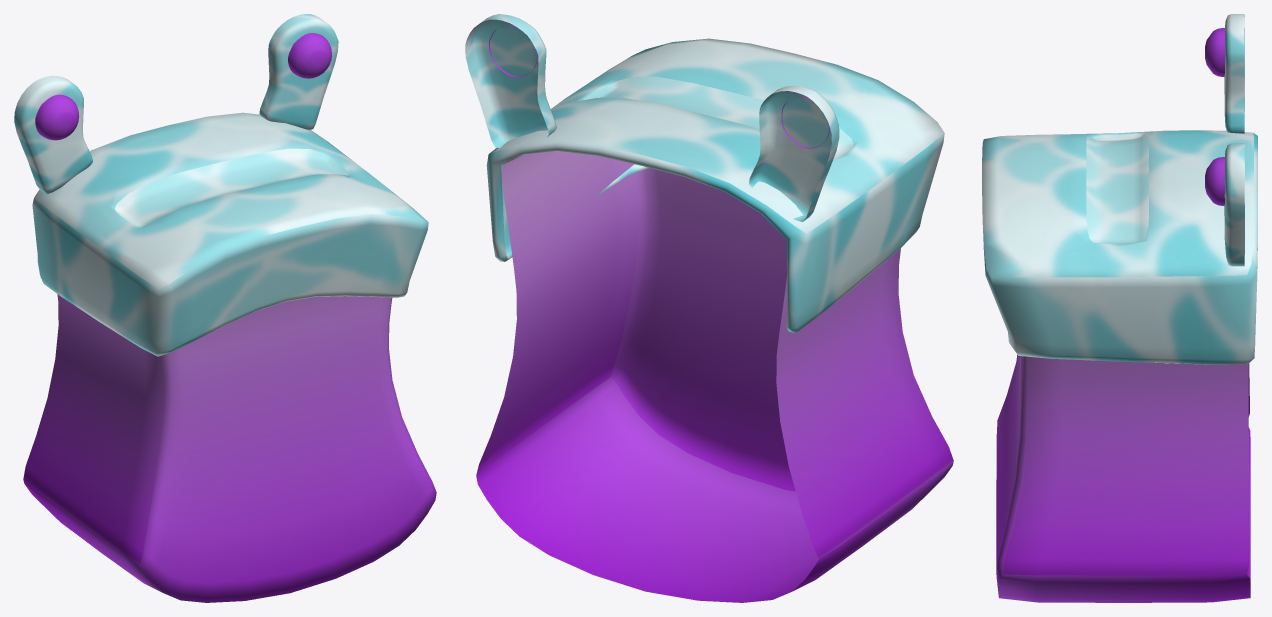
Rendered from Mailbox_C_purple.fbx.
3 renders of one model, left to right at view 1: azimuth 30°, elevation 25°; view 2: azimuth 150°, elevation 25°; view 3: azimuth 270°, elevation 25°, orthographic. The views are drawn at different scales.
Visible parts, largest first — view 1: MailboxC_purple; view 2: MailboxC_purple; view 3: MailboxC_purple.
Part boxes in pixels (bbox=[...]): MailboxC_purple: bbox=[14, 14, 436, 602]; MailboxC_purple: bbox=[465, 14, 953, 602]; MailboxC_purple: bbox=[982, 14, 1257, 602].
Bounding box in the file's own units: 1.14 × 0.8211 × 1.6.
